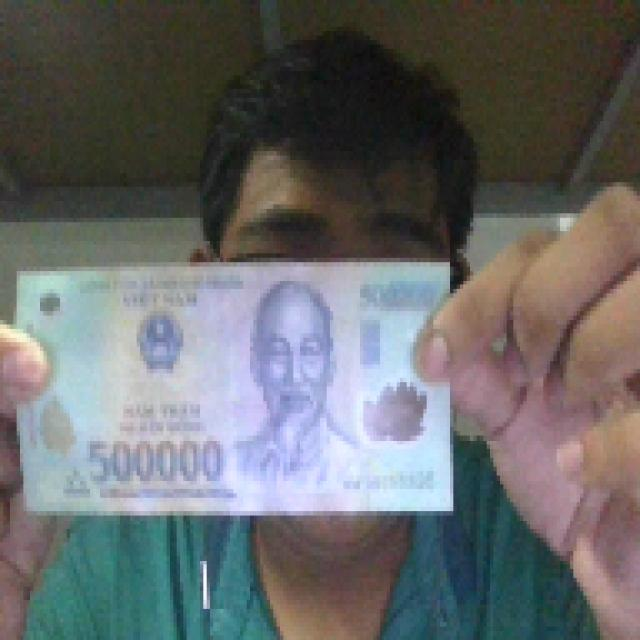500 000 VND: (10, 253, 460, 520)
